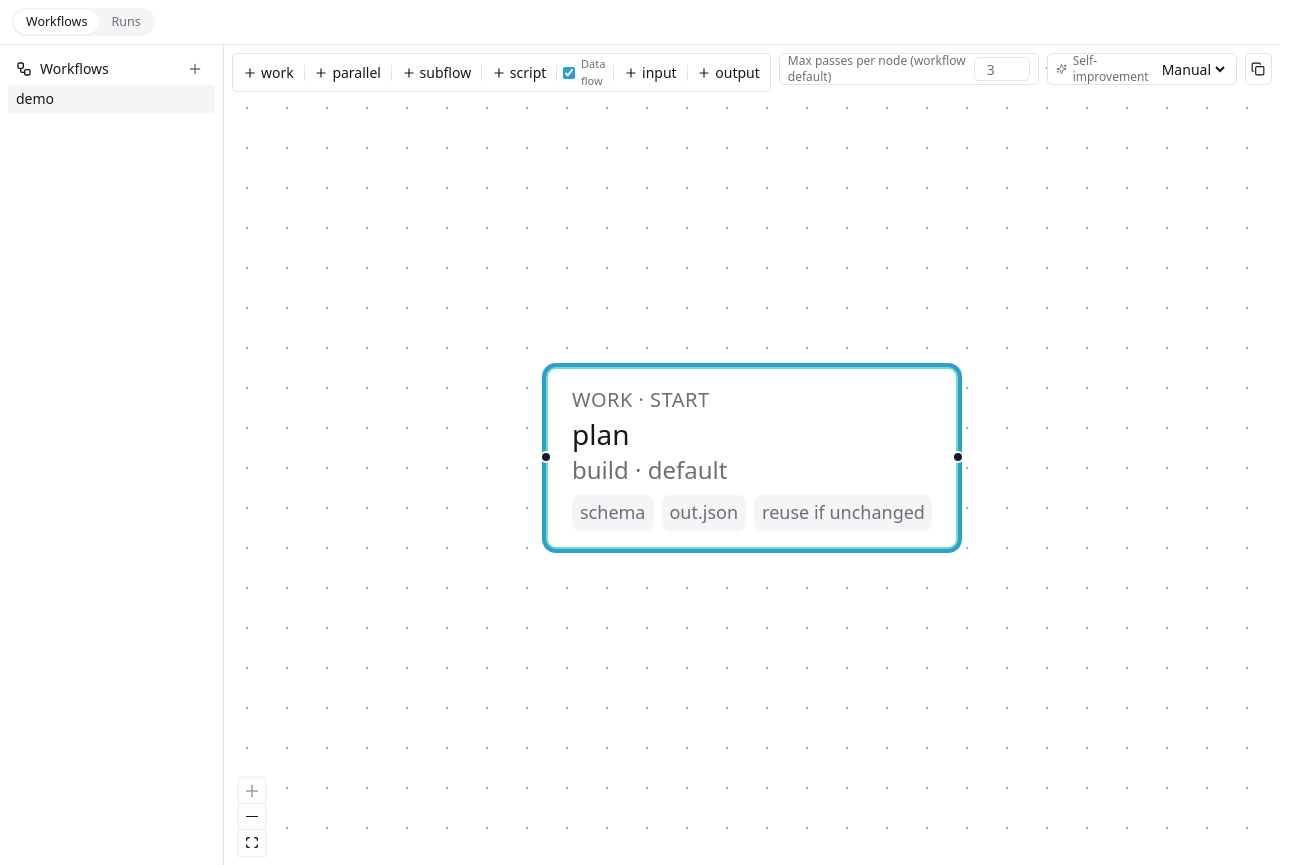
Test: clearing output_schema cascades through output_file to clear reuse
The width and height of the screenshot is (1292, 865).
Click the text "plan" at point(601, 434), box top-left (572, 415), bottom-right (630, 453)
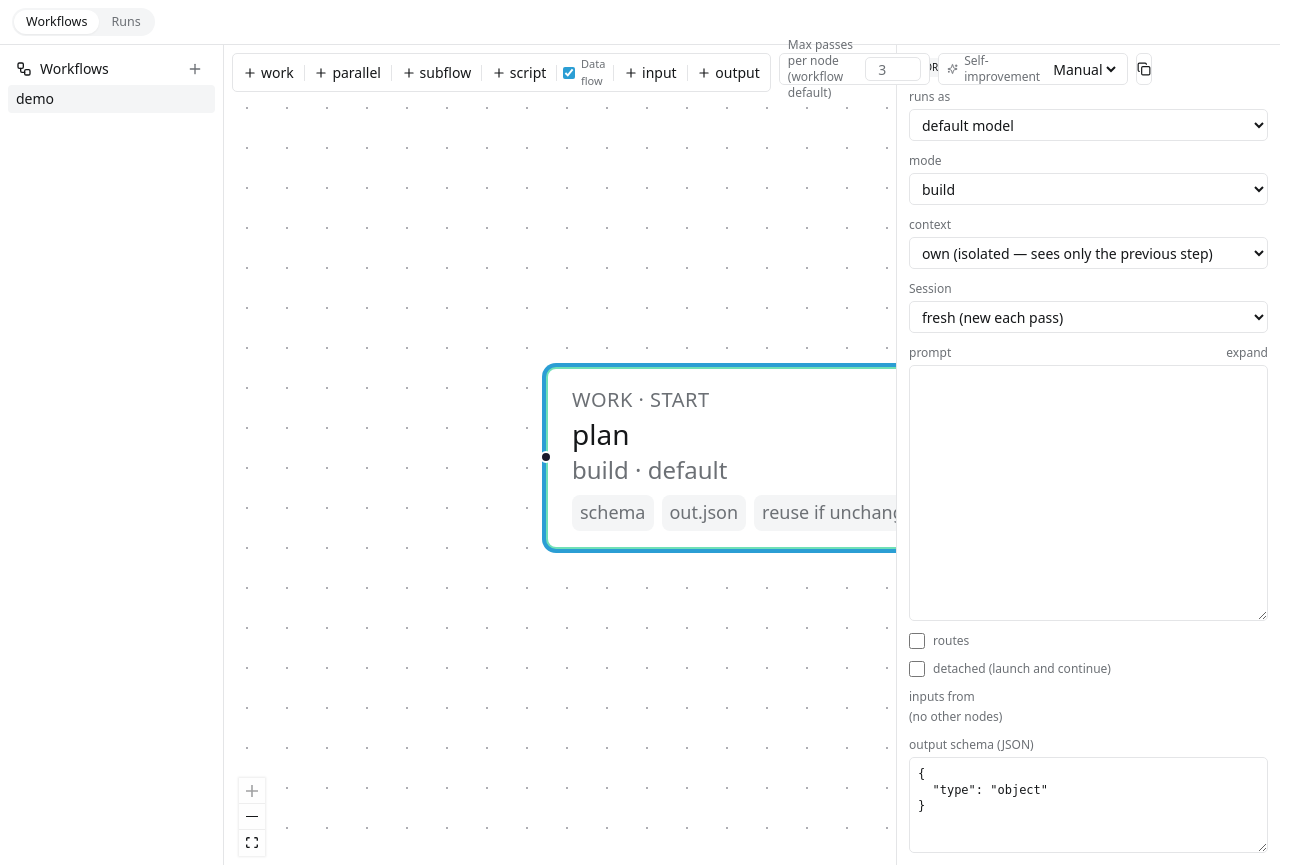
expect the text "reuse if unchanged" is shown: met, box top-left (754, 495), bottom-right (896, 530)
Clear the text box labelled "output schema (JSON)" at point(1088, 805), box top-left (909, 757), bottom-right (1268, 853)
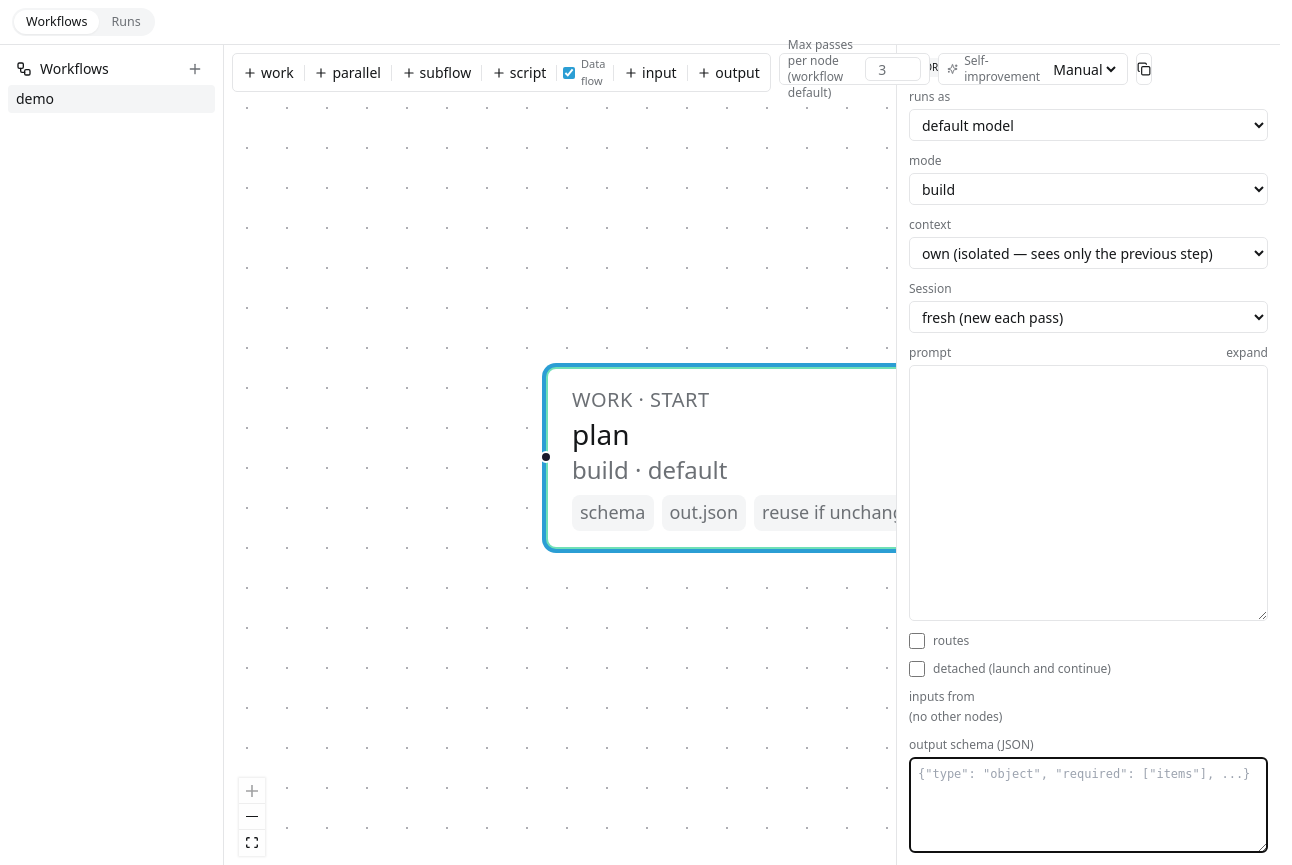
Press Tab
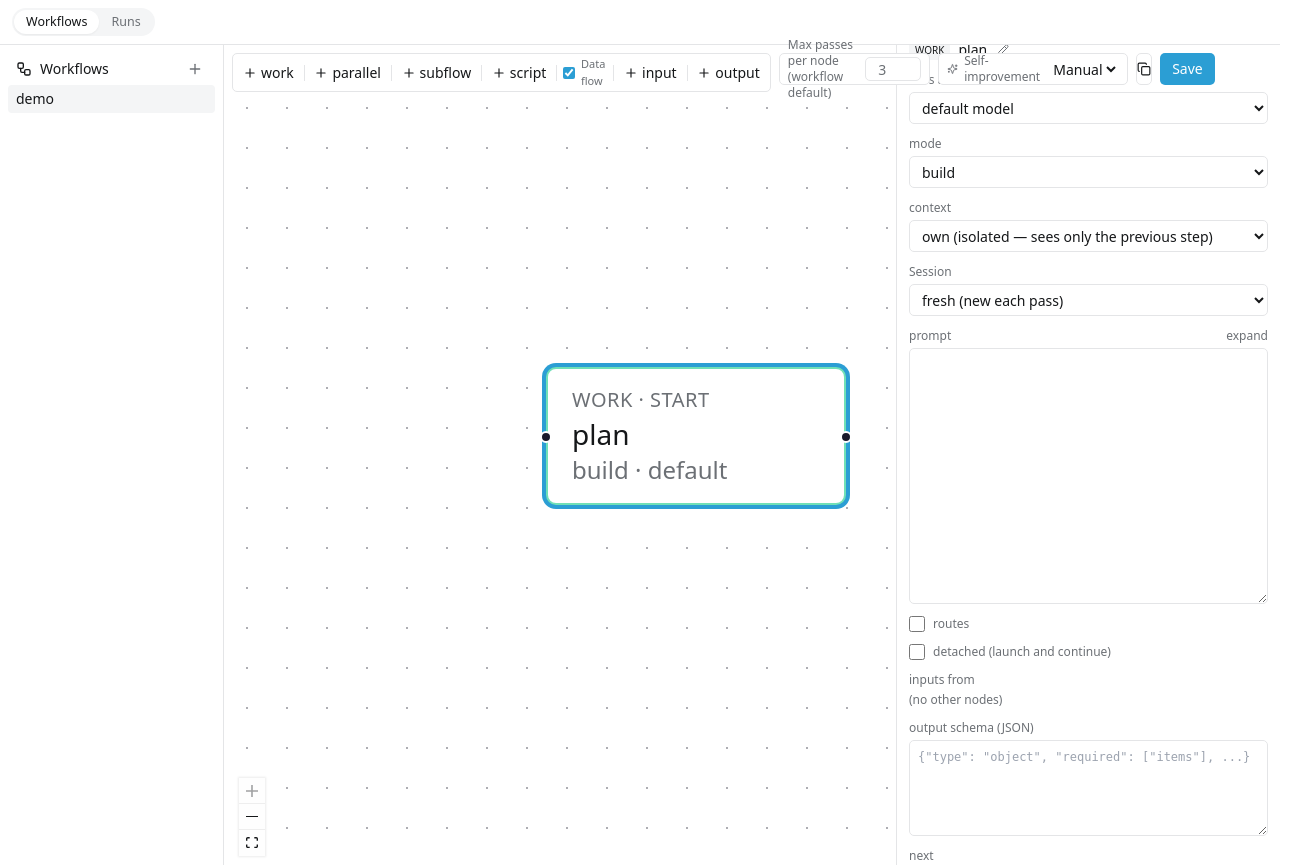
expect the text "reuse if unchanged" is gone: met
